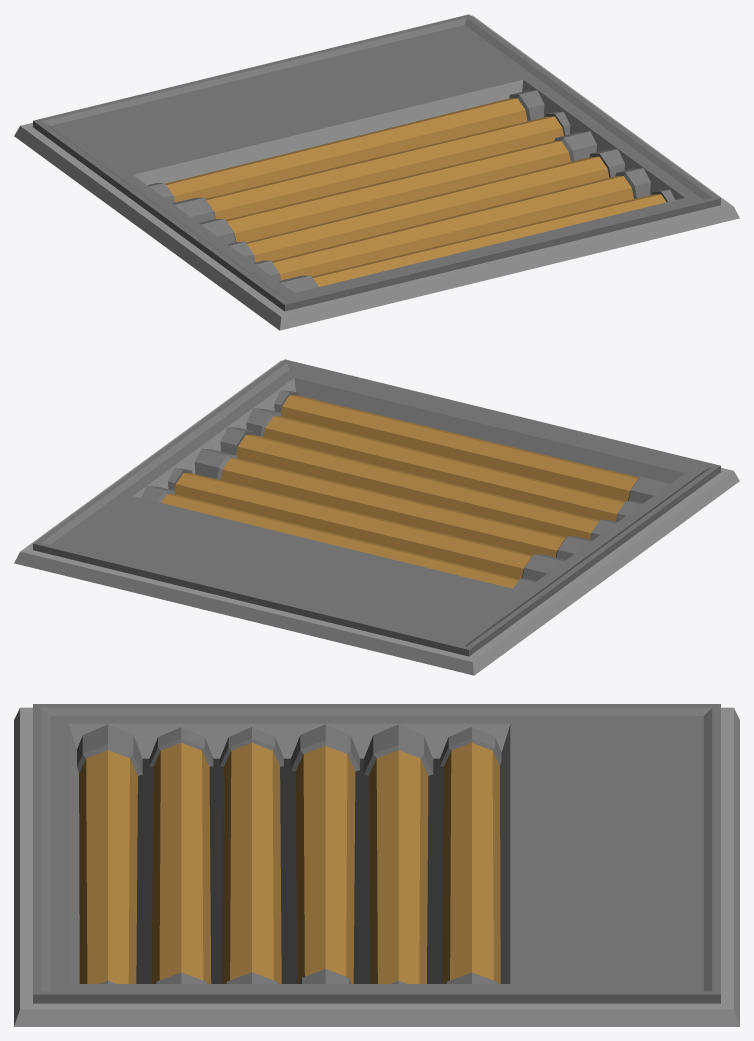
File: RoofTile_Sides_Pipes.glb
The picture shows the model from 3 angles, top to bottom: view 1: azimuth 30°, elevation 25°; view 2: azimuth 150°, elevation 25°; view 3: azimuth 270°, elevation 25°; orthographic projection. The views are drawn at different scales.
Parts seen in each view (by area): view 1: RoofTile_Sides_Pipes; view 2: RoofTile_Sides_Pipes; view 3: RoofTile_Sides_Pipes.
Part boxes in pixels (x1=…): RoofTile_Sides_Pipes: x1=14, y1=14, x2=739, y2=330; RoofTile_Sides_Pipes: x1=14, y1=359, x2=739, y2=675; RoofTile_Sides_Pipes: x1=14, y1=704, x2=739, y2=1026.
Size of the model in its own units: 2 by 0.1133 by 2.
